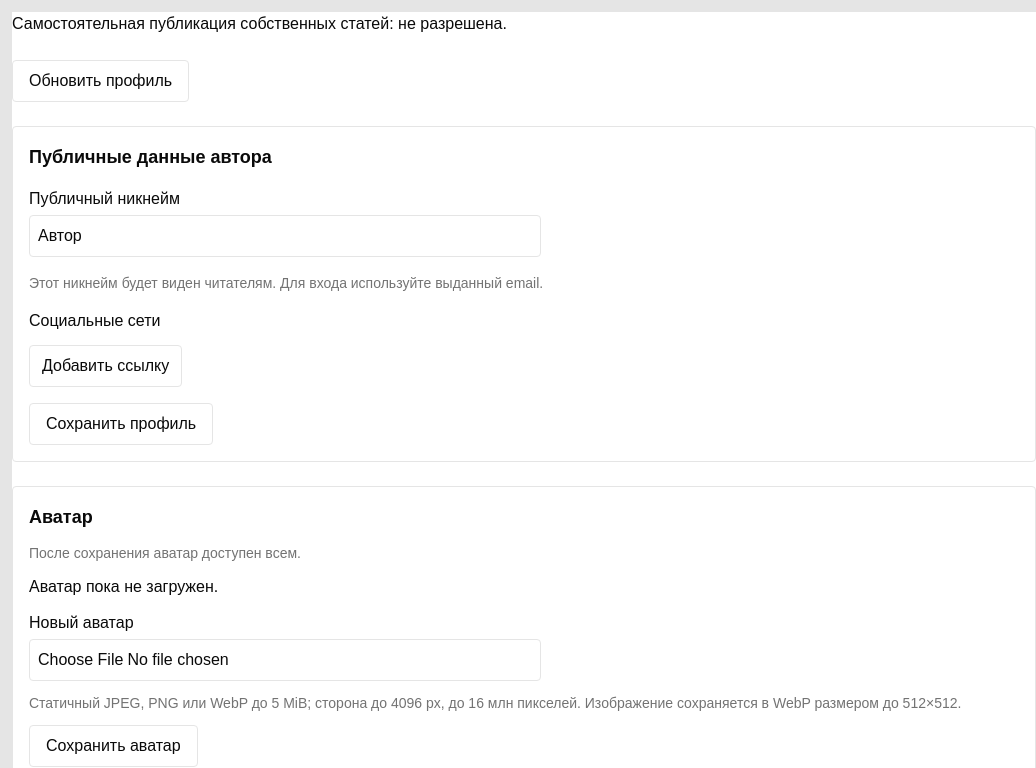
Test case: Writer profile UI › keeps the local draft and file after conflict until explicit profile refresh
Replace the text in the field labelled "Публичный никнейм" with "Несохранённый ник". click: (285, 236)
box: [29,215,541,257]
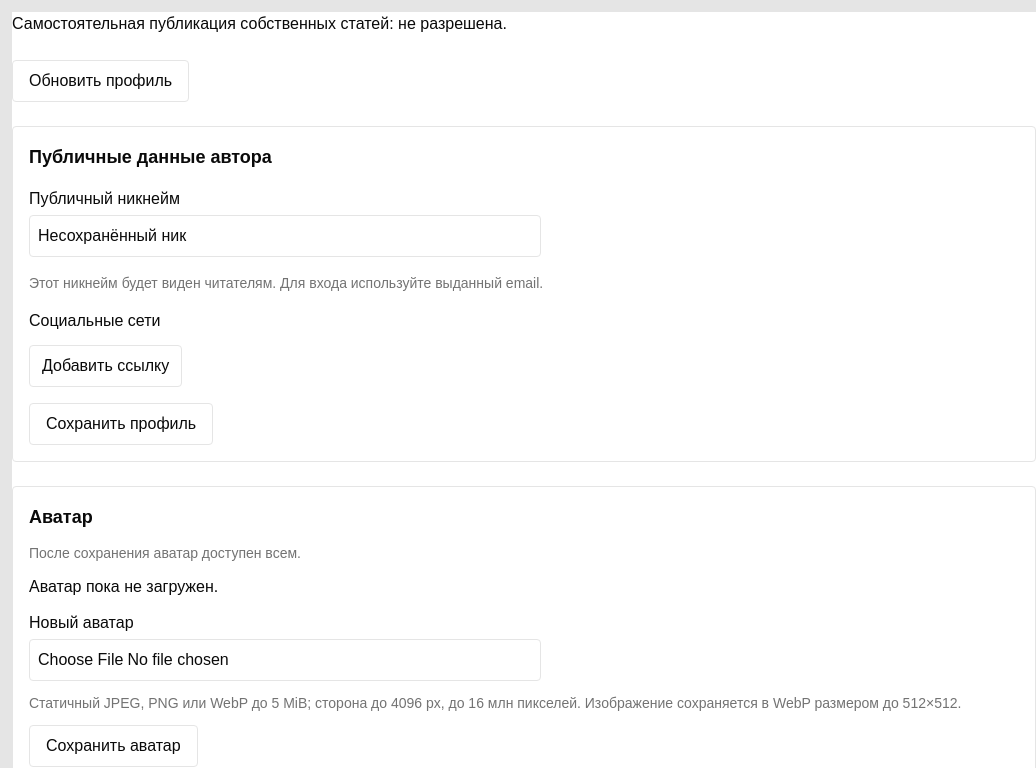
Submit the form named "Сохранить профиль", box [12,126,1035,462]
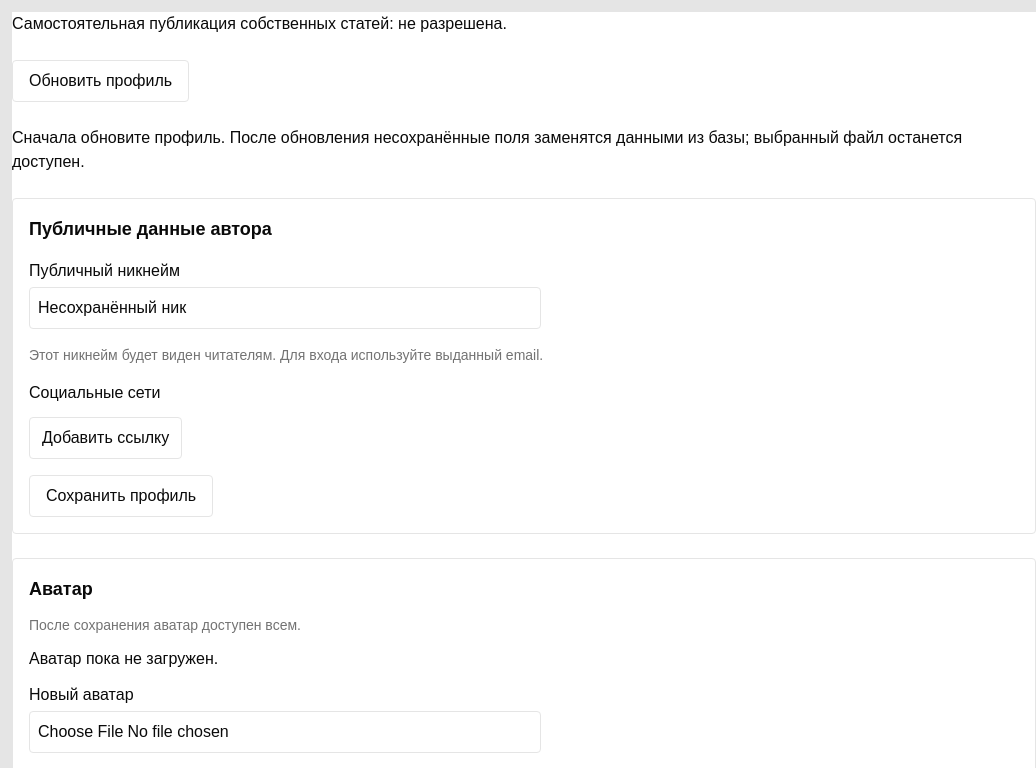
Click the button "Обновить профиль". click: (101, 81)
box: [12,60,189,102]
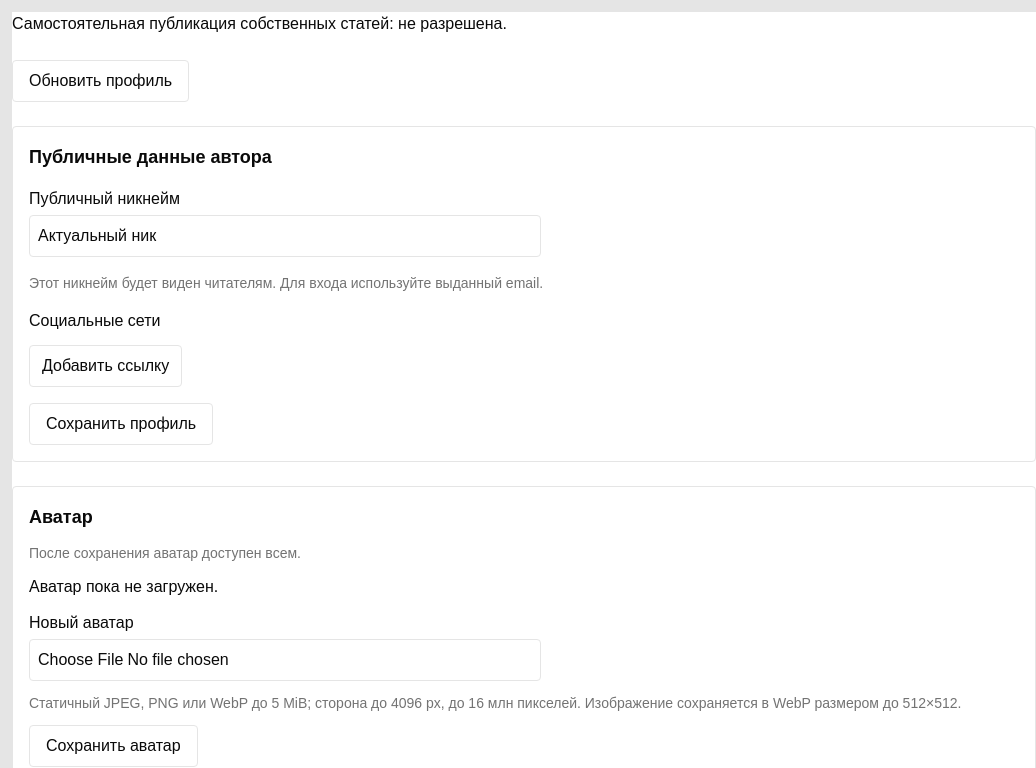
Check: the field labelled "Публичный никнейм" holds "Актуальный ник", box [29,215,541,257]
